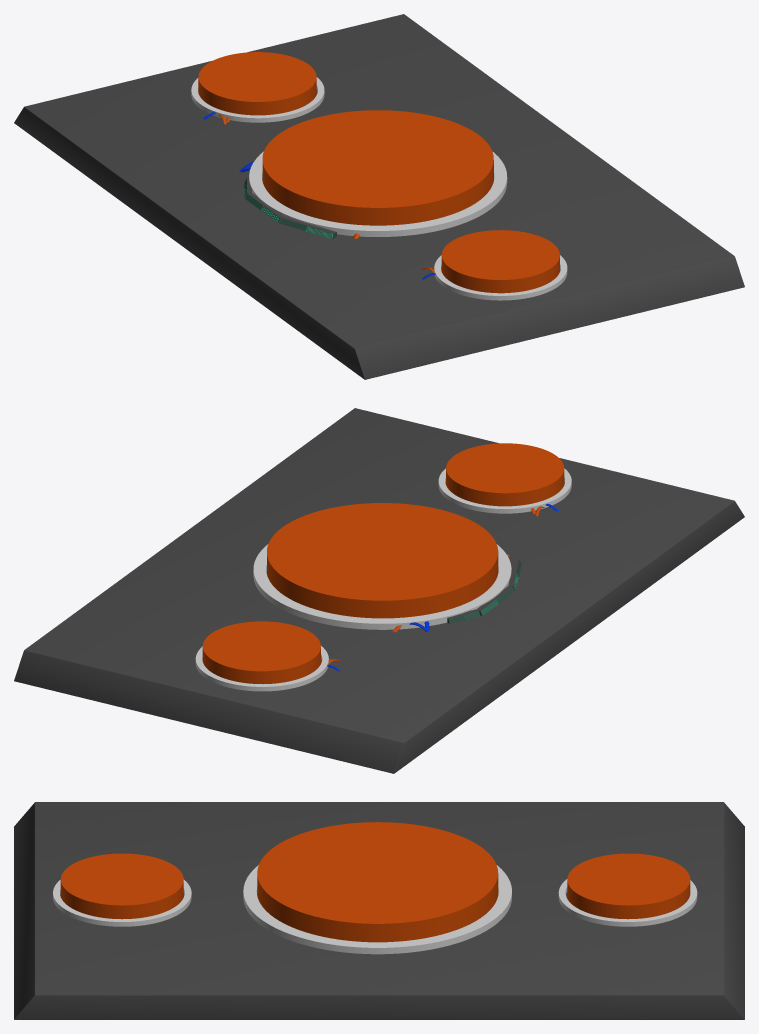
The model's file is перемотка.FBX.
3 views of the same model, one above another, from view 1: azimuth 30°, elevation 25°; view 2: azimuth 150°, elevation 25°; view 3: azimuth 270°, elevation 25° (orthographic). The views are drawn at different scales.
Parts seen in each view (by area): view 1: ChamferBox001, Cylinder022, Cylinder021, Cylinder003, Tube001, Tube003, Tube002; view 2: ChamferBox001, Cylinder022, Cylinder003, Cylinder021, Tube001, Tube002, Tube003; view 3: ChamferBox001, Cylinder022, Cylinder003, Cylinder021, Tube001, Tube003, Tube002.
Boxes of the visible parts, left/top/right/bottom form: ChamferBox001: left=14, top=14, right=744, bottom=379; Cylinder022: left=262, top=110, right=493, bottom=225; Cylinder021: left=198, top=52, right=316, bottom=115; Cylinder003: left=441, top=230, right=559, bottom=293; Tube001: left=249, top=151, right=507, bottom=236; Tube003: left=434, top=255, right=567, bottom=300; Tube002: left=191, top=77, right=324, bottom=122; ChamferBox001: left=14, top=408, right=744, bottom=773; Cylinder022: left=267, top=503, right=498, bottom=618; Cylinder003: left=446, top=443, right=564, bottom=506; Cylinder021: left=202, top=621, right=320, bottom=684; Tube001: left=253, top=544, right=511, bottom=629; Tube002: left=195, top=646, right=328, bottom=691; Tube003: left=438, top=468, right=571, bottom=513; ChamferBox001: left=14, top=802, right=744, bottom=1019; Cylinder022: left=257, top=822, right=498, bottom=942; Cylinder003: left=60, top=853, right=183, bottom=919; Cylinder021: left=567, top=853, right=690, bottom=919; Tube001: left=243, top=865, right=511, bottom=954; Tube003: left=53, top=879, right=191, bottom=926; Tube002: left=558, top=879, right=697, bottom=926.
Bounding box in the file's own units: 138 × 16.43 × 221.
